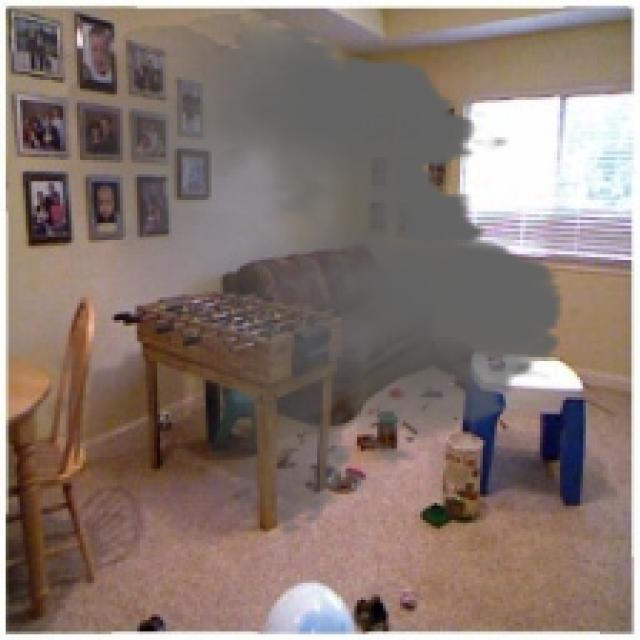Smoke: (28, 14, 583, 537)
